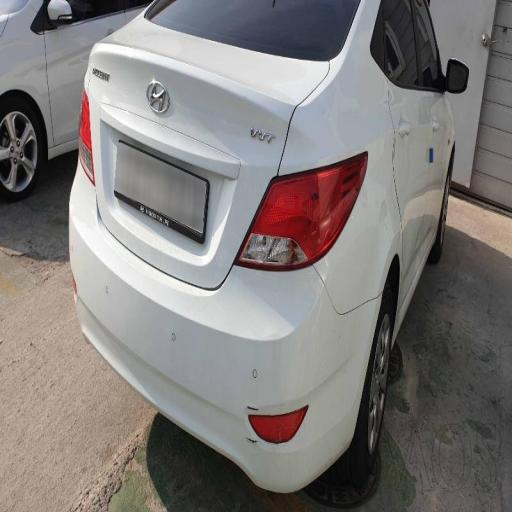broken: (230, 160, 374, 300)
scratch: (237, 372, 281, 467)
